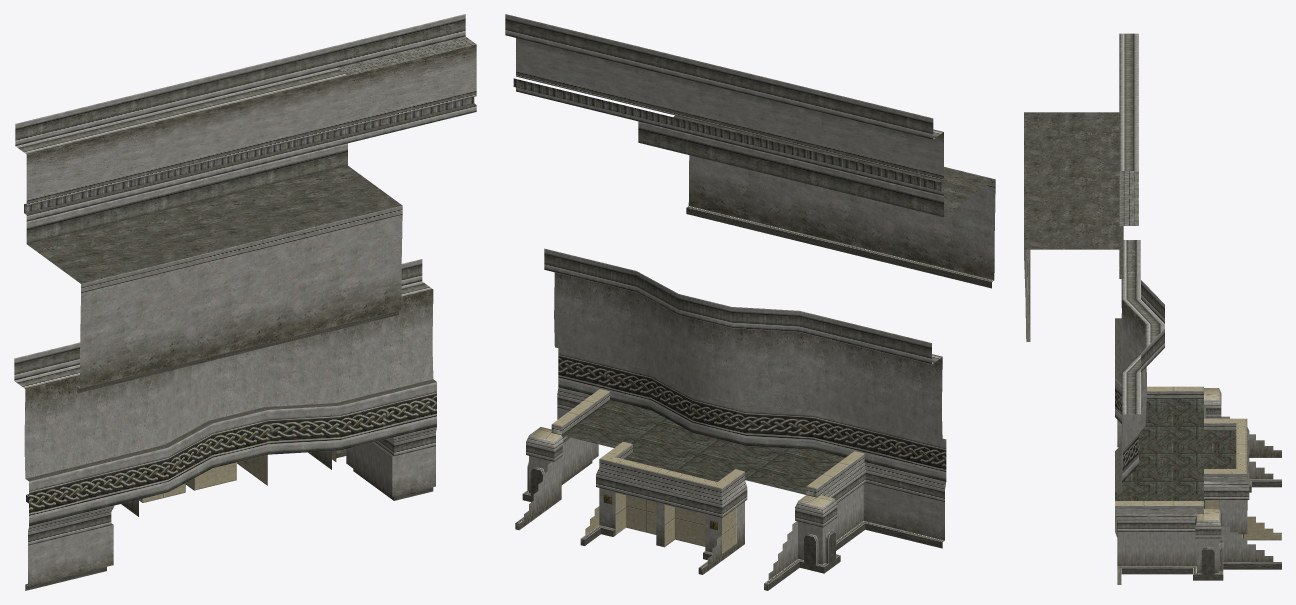
The model's file is DWARF_PALACE_MAINHALL_WALL01C.fbx.
The picture shows the model from 3 angles, left to right: view 1: azimuth 30°, elevation 25°; view 2: azimuth 150°, elevation 25°; view 3: azimuth 270°, elevation 25°; orthographic projection. The views are drawn at different scales.
Parts seen in each view (by area): view 1: DWARF_PALACE_MAINHALL_WALL01C; view 2: DWARF_PALACE_MAINHALL_WALL01C; view 3: DWARF_PALACE_MAINHALL_WALL01C.
Part boxes in pixels (x1,y1,x2,y2): DWARF_PALACE_MAINHALL_WALL01C: (14, 14, 476, 590); DWARF_PALACE_MAINHALL_WALL01C: (505, 14, 995, 590); DWARF_PALACE_MAINHALL_WALL01C: (1024, 33, 1281, 584).
Bounding box in the file's own units: 209996 × 205000 × 119001.
14 materials, 14 textured.
